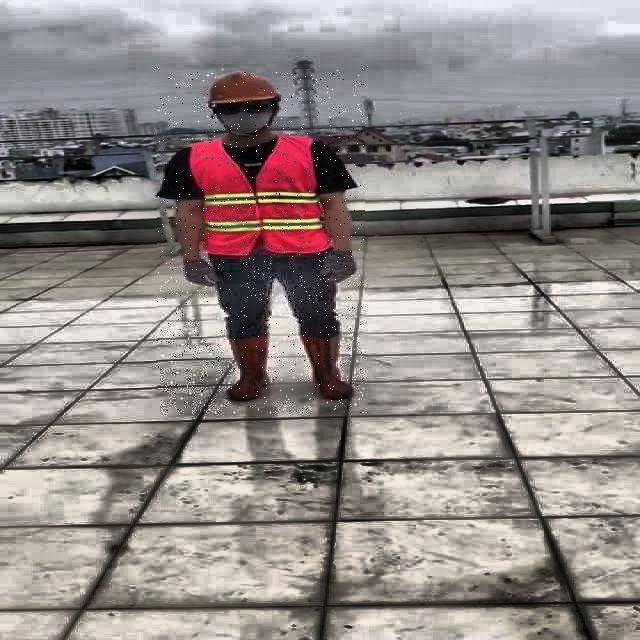safety_helmet: (202, 72, 278, 106)
safety_jacket: (187, 136, 331, 253)
